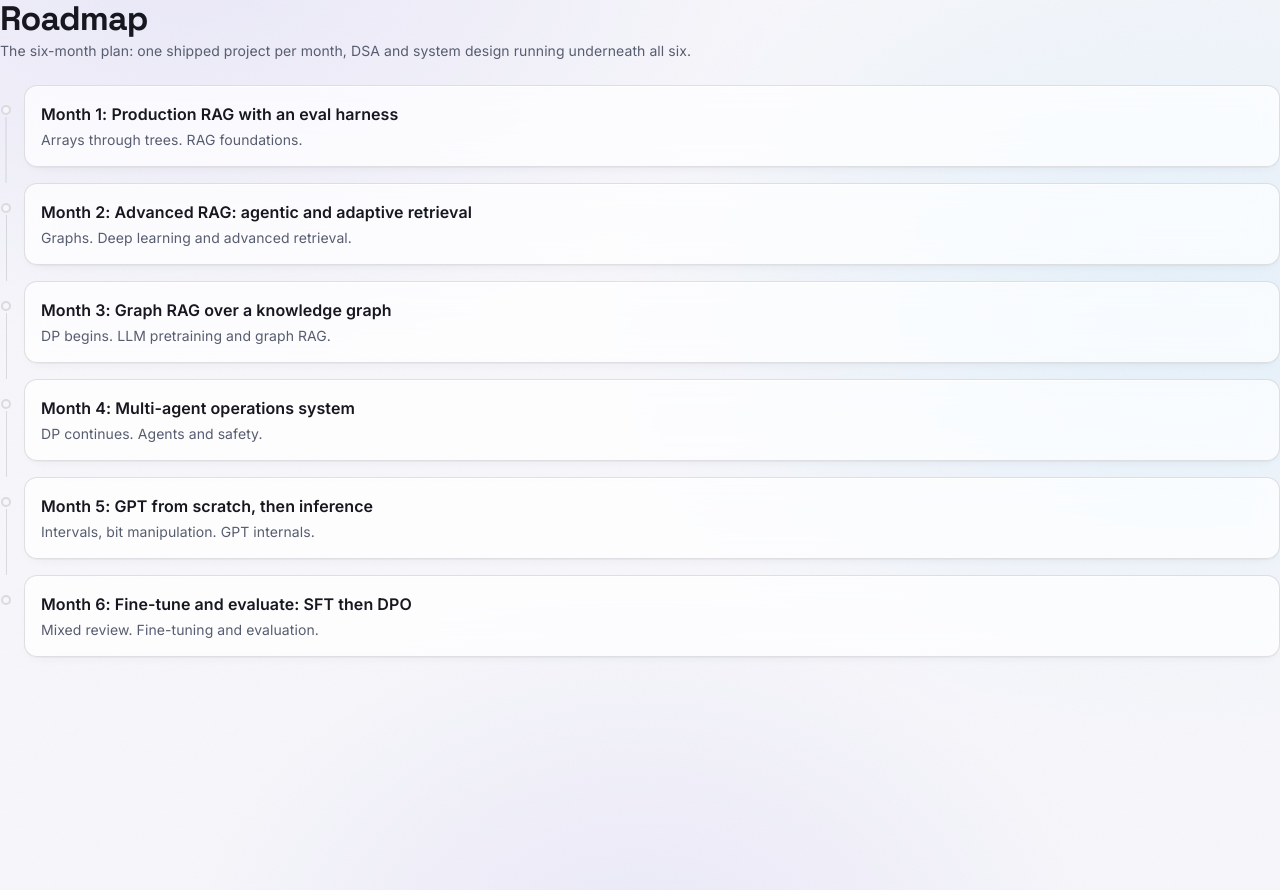
Test: Roadmap › expands month 1 into four weeks with day tasks
This screenshot has width=1280, height=890.
What coordinates should you click on to do the following:
click the button "Month 1"
I would click on:
 (68, 114)
Its box is [41, 102, 1263, 150].
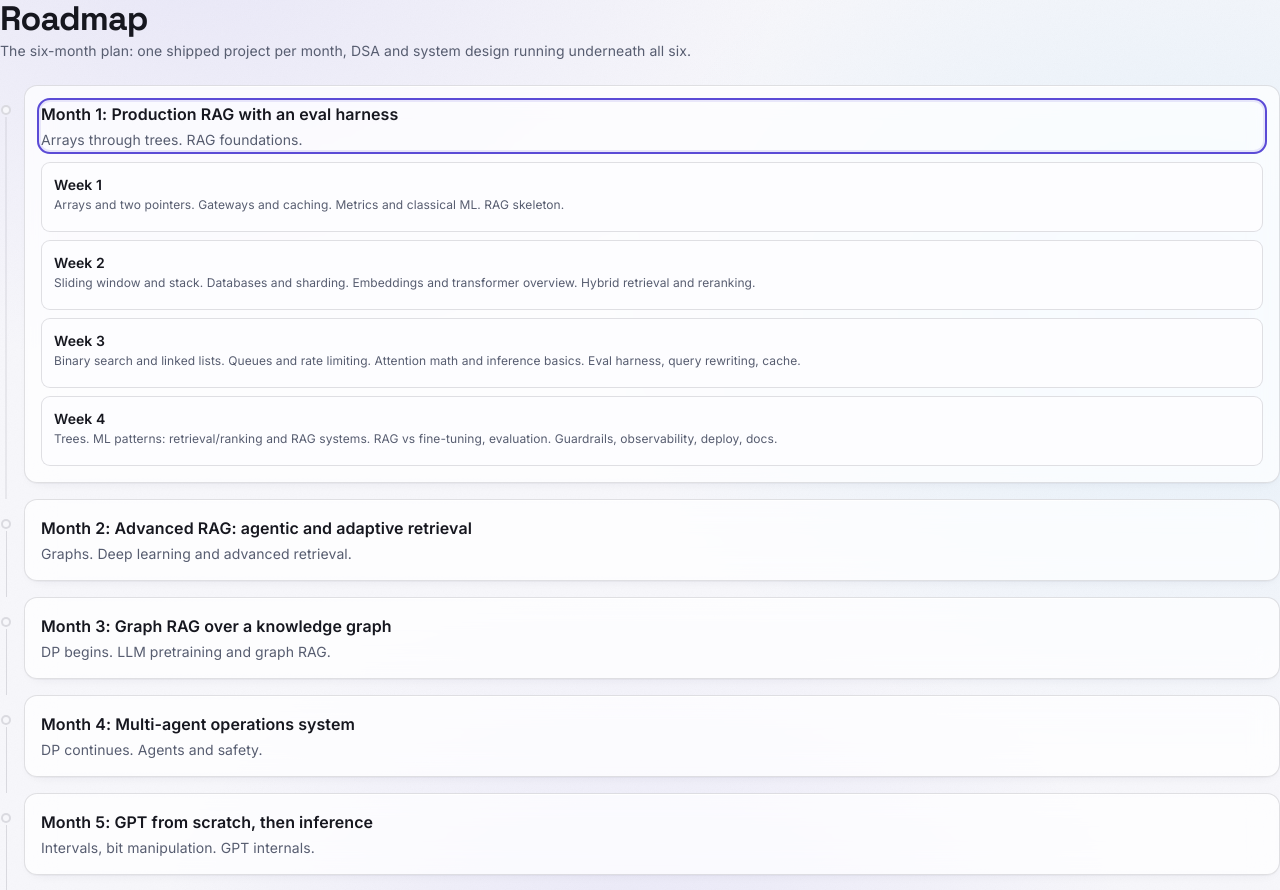
Expected: the text "Week 1" is shown, [54, 175, 102, 195]
What coordinates should you click on to do the following:
click the button "Week 1"
I would click on:
 (75, 185)
Its box is [54, 175, 1250, 219].
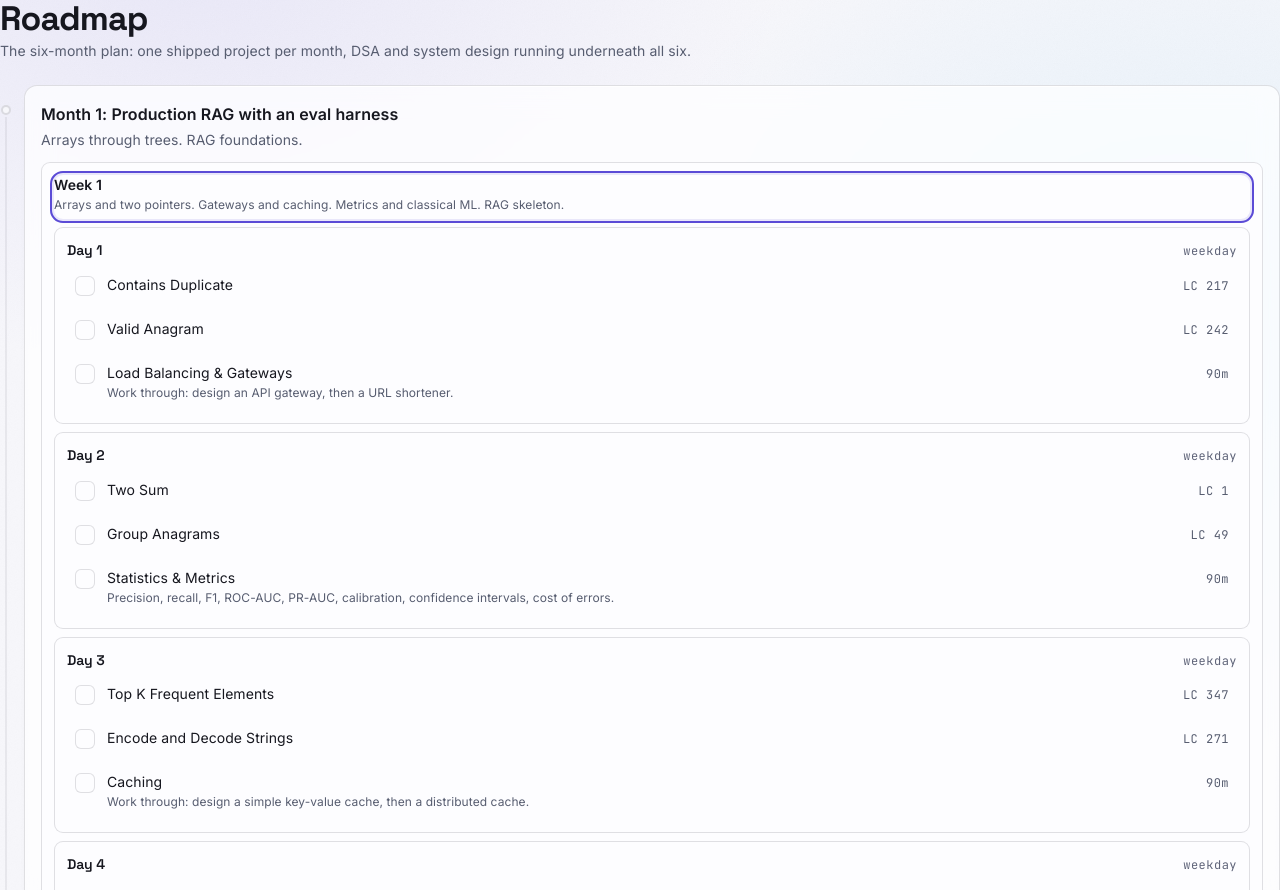
Expected: the text "Contains Duplicate" is shown, [107, 275, 233, 295]
